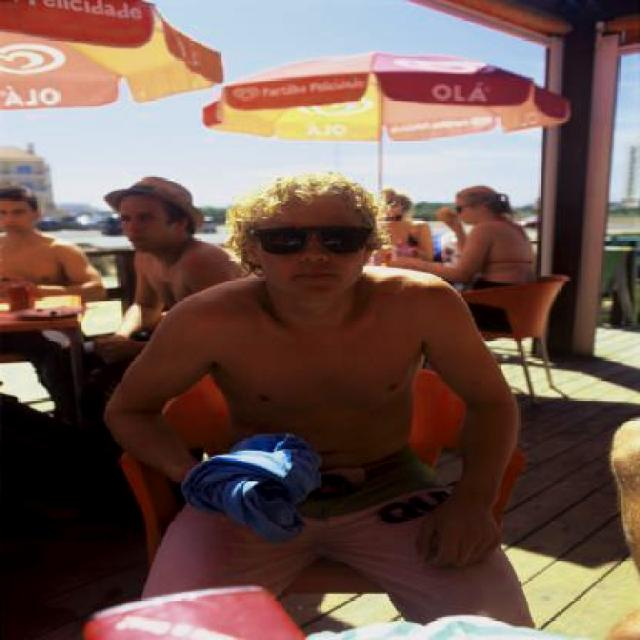face_nomask: (264, 216, 361, 293), (118, 206, 162, 252), (0, 206, 28, 237)
glasses: (255, 222, 372, 256)
hand_noglove: (413, 499, 501, 576)
head_nohelmet: (251, 171, 366, 227), (105, 172, 190, 213), (462, 184, 512, 211), (0, 178, 35, 207)
person: (122, 179, 524, 587), (0, 185, 117, 301), (452, 190, 548, 325)
